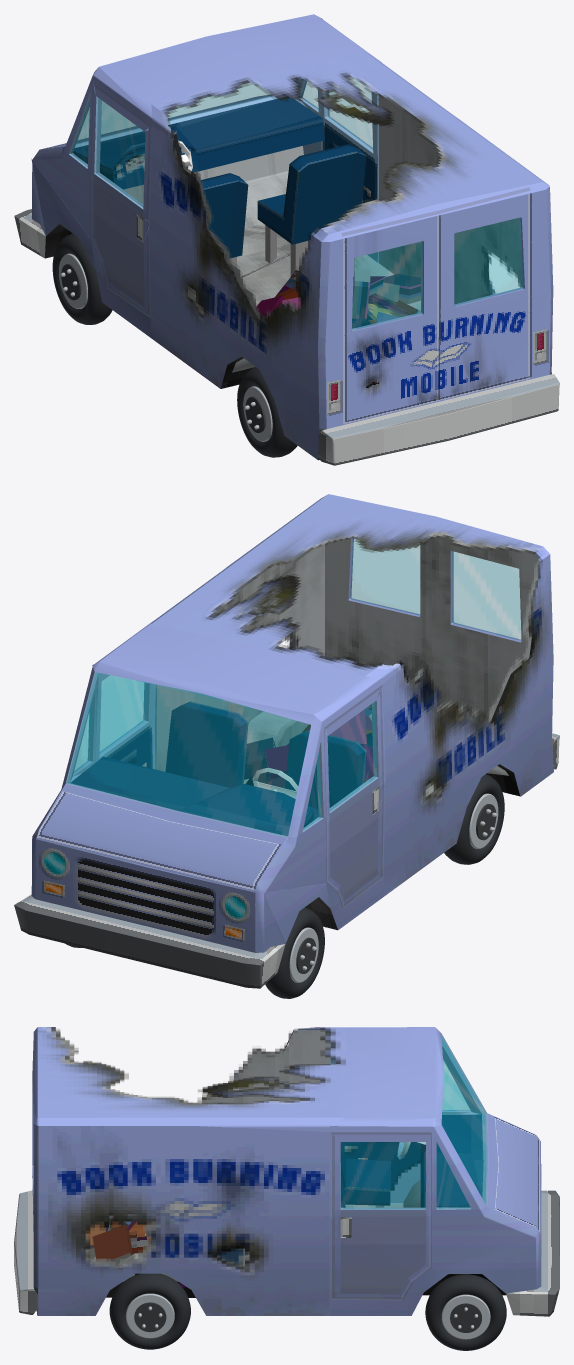
The model's file is car-bookb_v.glb.
3 views of the same model, one above another, from view 1: azimuth 30°, elevation 25°; view 2: azimuth 150°, elevation 25°; view 3: azimuth 270°, elevation 25° (orthographic). The views are drawn at different scales.
Visible parts, largest first — view 1: backShape, bookb_vShape.003, DwallShape.002, bookb_vShape.006, roofShape.002, backShape.004, TrunkRotShape.001, PwallShape.003, DoorDRotShape.011, bookb_vShape.002, DoorDRotShape.010, bookb_vShape.005 (+15 smaller); view 2: bookb_vShape.003, bookb_vShape.005, bookb_vShape.006, DwallShape.002, backShape.002, roofShape.002, bookb_vShape.001, HoodRotShape.003, backShape.004, PwallShape.003, DoorDRotShape.011, DoorDRotShape.010 (+11 smaller); view 3: PwallShape.002, bookb_vShape.006, roofShape.002, bookb_vShape.003, DoorPRotShape.012, DoorPRotShape.011, bookb_vShape.005, HoodRotShape.003, DwallShape.004, roofShape.001, Rounded tire.009, Rounded tire.008 (+11 smaller).
Boxes of the visible parts, x1,y1,x2,y2 form: backShape: [325, 189, 550, 428]; bookb_vShape.003: [14, 77, 551, 460]; DwallShape.002: [149, 125, 321, 459]; bookb_vShape.006: [31, 14, 381, 336]; roofShape.002: [151, 52, 542, 234]; backShape.004: [352, 218, 523, 330]; TrunkRotShape.001: [318, 374, 559, 465]; PwallShape.003: [378, 93, 521, 303]; DoorDRotShape.011: [90, 83, 151, 318]; bookb_vShape.002: [124, 146, 420, 372]; DoorDRotShape.010: [96, 98, 144, 206]; bookb_vShape.005: [71, 81, 318, 166]; bookb_vShape.003: [14, 672, 381, 988]; bookb_vShape.005: [67, 672, 321, 836]; bookb_vShape.006: [31, 622, 385, 952]; DwallShape.002: [382, 554, 553, 895]; backShape.002: [325, 535, 539, 721]; roofShape.002: [151, 494, 542, 676]; bookb_vShape.001: [35, 635, 534, 952]; HoodRotShape.003: [36, 791, 282, 892]; backShape.004: [350, 539, 521, 640]; PwallShape.003: [156, 544, 324, 771]; DoorDRotShape.011: [324, 684, 386, 908]; DoorDRotShape.010: [328, 702, 376, 810]; PwallShape.002: [33, 1124, 329, 1315]; bookb_vShape.006: [330, 1027, 541, 1315]; roofShape.002: [37, 1027, 345, 1117]; bookb_vShape.003: [35, 1032, 559, 1316]; DoorPRotShape.012: [330, 1132, 431, 1300]; DoorPRotShape.011: [341, 1142, 425, 1208]; bookb_vShape.005: [437, 1038, 486, 1208]; HoodRotShape.003: [494, 1116, 540, 1233]; DwallShape.004: [52, 1030, 329, 1104]; roofShape.001: [32, 1027, 345, 1131]; Rounded tire.009: [109, 1273, 190, 1349]; Rounded tire.008: [425, 1274, 506, 1350].
Bounding box in the file's own units: 2.32 × 2.45 × 5.13.
15 materials, 12 textured.
